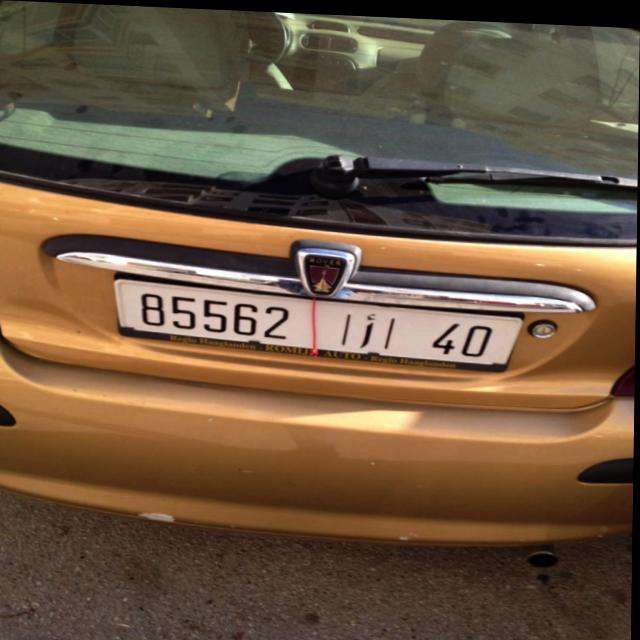License-Plate: (115, 277, 523, 366)
